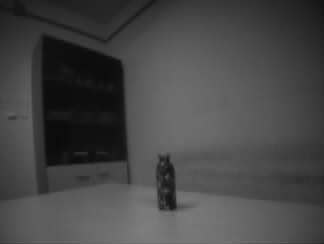Bottle: (156, 153, 177, 211)
